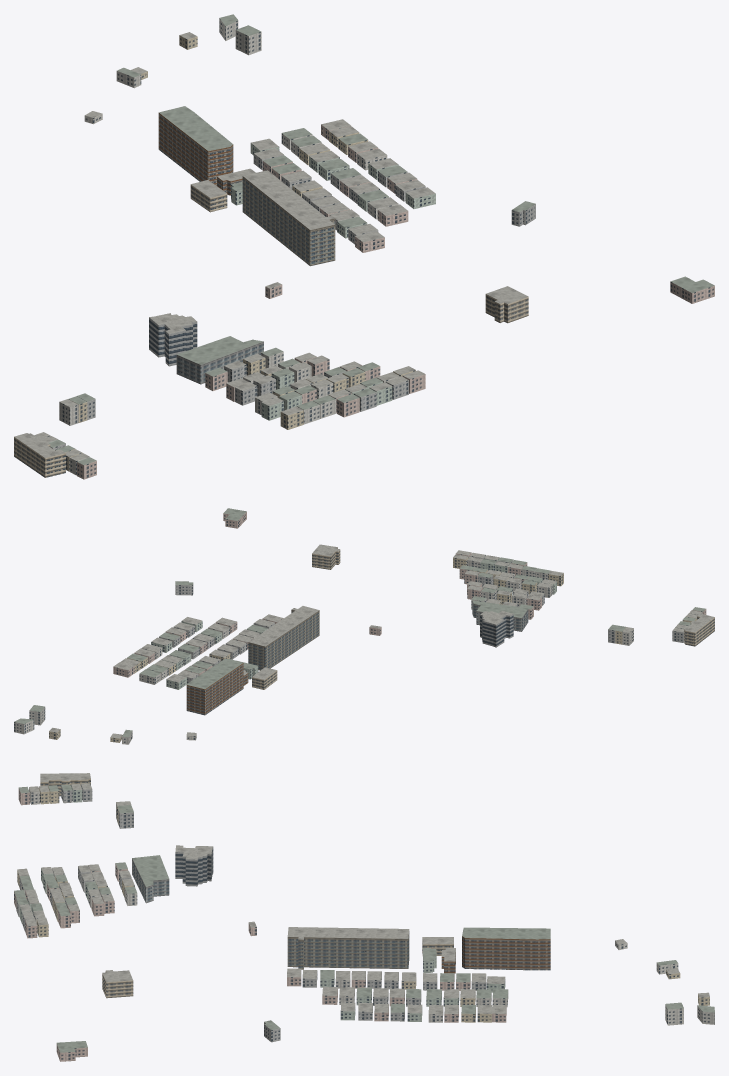
Rendered from ArahaTown_Block_W02048_N03072.gltf.
The picture shows the model from 3 angles, top to bottom: view 1: azimuth 30°, elevation 25°; view 2: azimuth 150°, elevation 25°; view 3: azimuth 270°, elevation 25°; orthographic projection. The views are drawn at different scales.
Parts seen in each view (by area): view 1: ArahaTown_Block_W02048_N03072; view 2: ArahaTown_Block_W02048_N03072; view 3: ArahaTown_Block_W02048_N03072.
Boxes of the visible parts, <box> form: ArahaTown_Block_W02048_N03072: <box>14,14,714,479</box>; ArahaTown_Block_W02048_N03072: <box>14,508,714,744</box>; ArahaTown_Block_W02048_N03072: <box>14,773,714,1061</box>.
Size of the model in its own units: 513 by 27.92 by 548.
12 materials, 12 textured.
